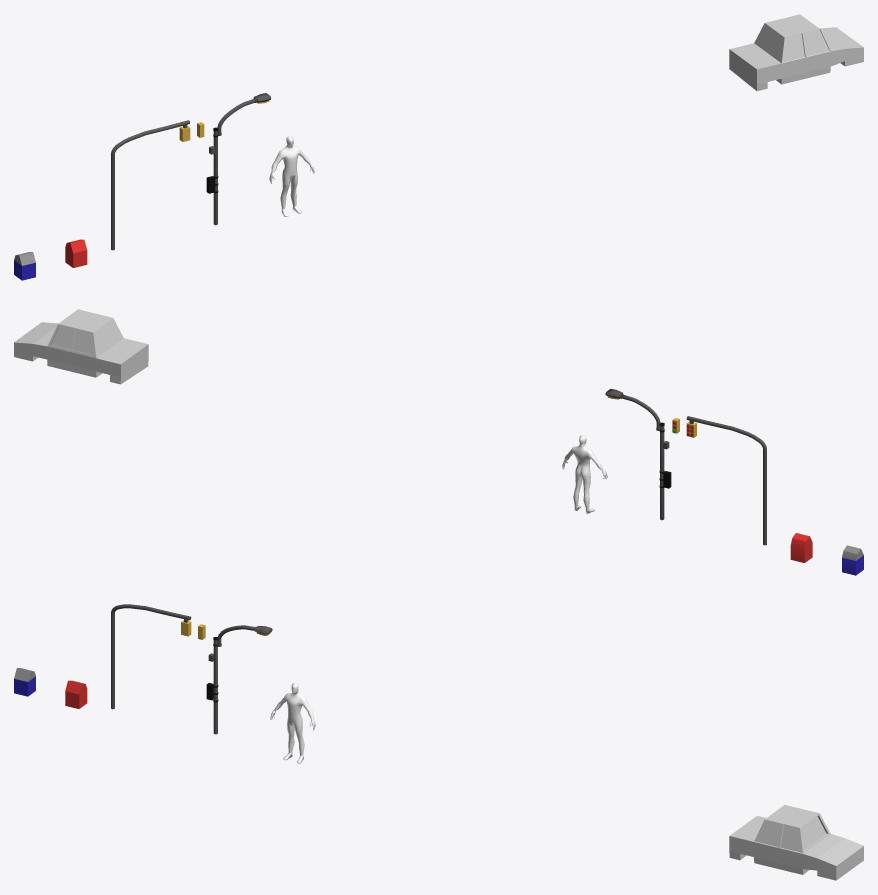
File: STREET.fbx
3 views of the same model, one above another, from view 1: azimuth 30°, elevation 25°; view 2: azimuth 150°, elevation 25°; view 3: azimuth 330°, elevation 25° (orthographic).
Parts seen in each view (by area): view 1: Cube.008, Base.002, Cylinder.005, Cylinder.008, Cube.001, Cube.007; view 2: Cube.008, Base.002, Cylinder.005, Cylinder.008, Cube.001, Cube.007; view 3: Cube.008, Base.002, Cylinder.005, Cylinder.008, Cube.001, Cube.007.
Part boxes in pixels (box(x1,y1,x2,y2)): Cube.008: box(729, 14, 863, 91); Base.002: box(269, 136, 314, 216); Cylinder.005: box(206, 93, 271, 225); Cylinder.008: box(111, 120, 190, 250); Cube.001: box(65, 239, 87, 267); Cube.007: box(14, 252, 35, 280); Cube.008: box(14, 309, 148, 384); Base.002: box(562, 435, 607, 513); Cylinder.005: box(605, 389, 671, 520); Cylinder.008: box(686, 416, 766, 545); Cube.001: box(790, 533, 812, 562); Cube.007: box(842, 545, 863, 575); Cube.008: box(729, 805, 863, 880); Base.002: box(270, 683, 315, 763); Cylinder.005: box(206, 625, 272, 734); Cylinder.008: box(111, 604, 191, 709); Cube.001: box(65, 680, 87, 708); Cube.007: box(14, 668, 35, 696).
Size of the model in its own units: 11887 by 1711 by 688.
